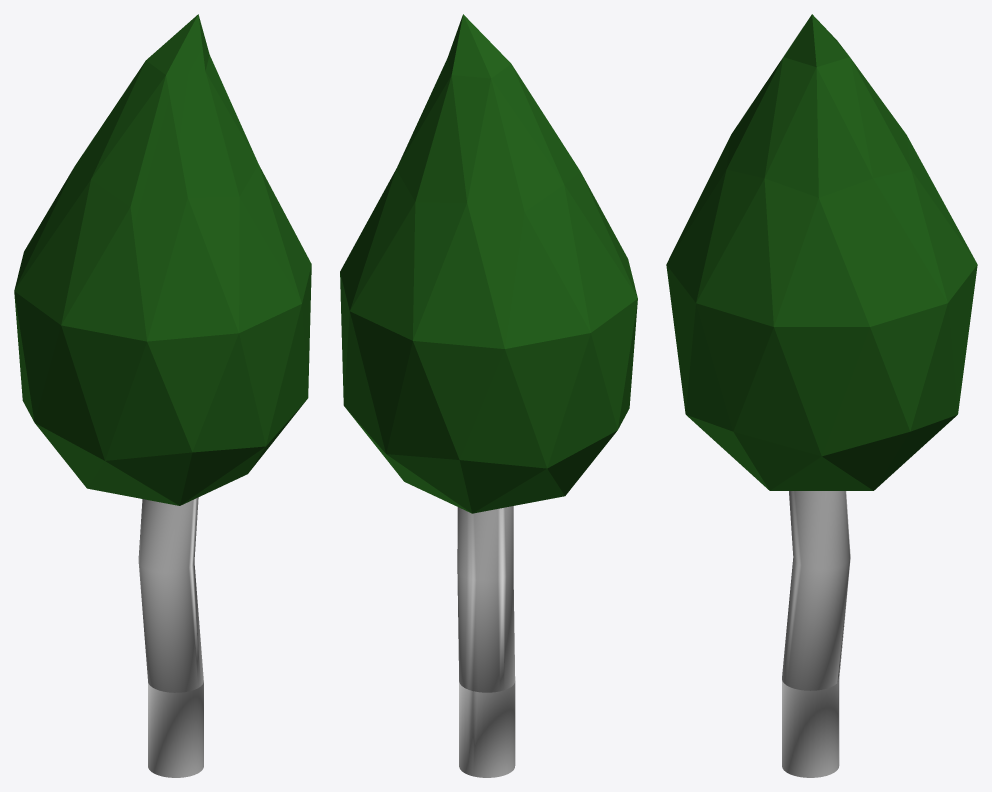
Rendered from Tree_WaterDrop_Shape 1.fbx.
3 renders of one model, left to right at view 1: azimuth 30°, elevation 25°; view 2: azimuth 150°, elevation 25°; view 3: azimuth 270°, elevation 25°, orthographic. The views are drawn at different scales.
Parts seen in each view (by area): view 1: Cylinder, Cylinder.002; view 2: Cylinder, Cylinder.002; view 3: Cylinder, Cylinder.002.
Part boxes in pixels (x1,y1,x2,y2): Cylinder: [14, 14, 311, 692]; Cylinder.002: [148, 682, 203, 777]; Cylinder: [340, 14, 637, 692]; Cylinder.002: [459, 681, 515, 777]; Cylinder: [666, 14, 977, 690]; Cylinder.002: [782, 679, 839, 777].
Bounding box in the file's own units: 147 × 414 × 153.
